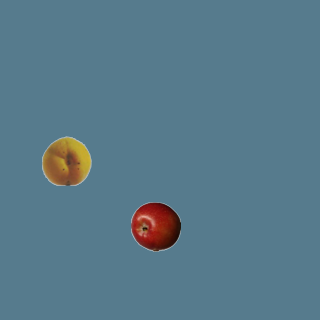Apple Braeburn: (130, 201, 180, 251)
Peach 2: (41, 135, 91, 185)
